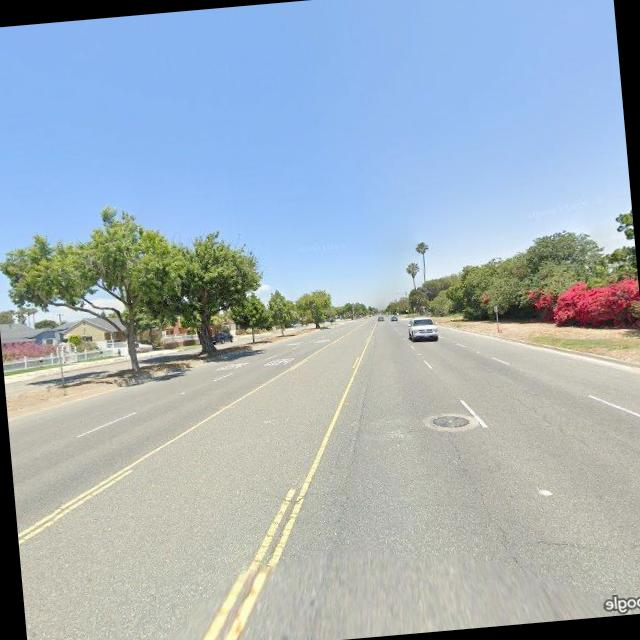crack: (447, 430, 518, 561)
